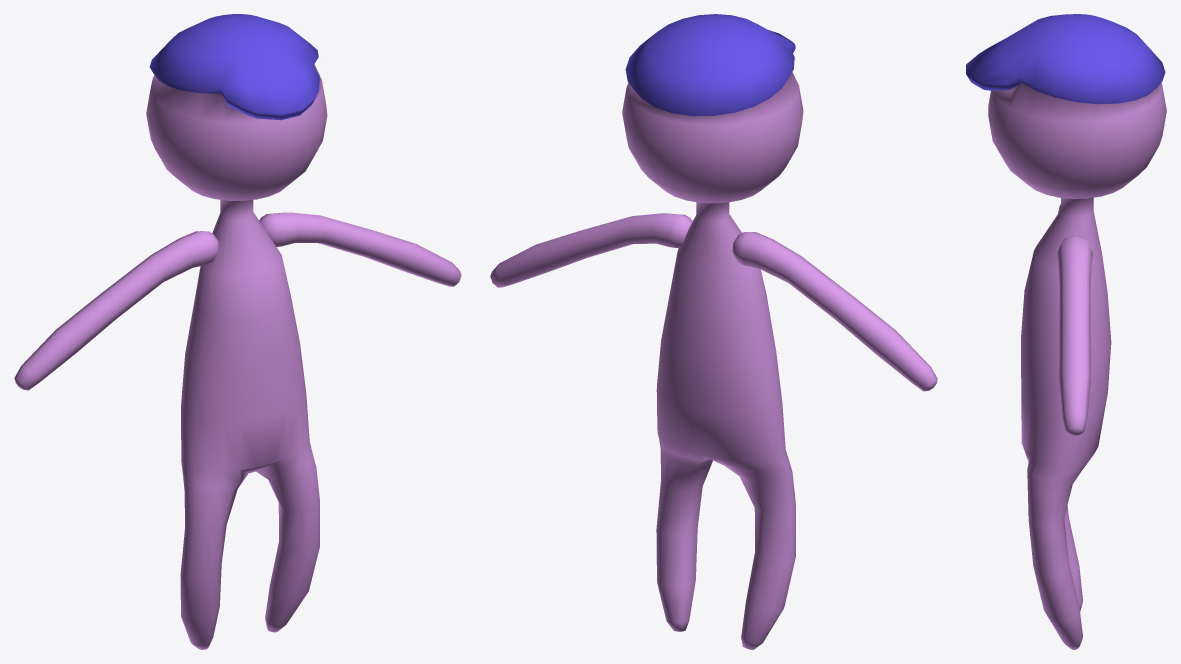
File: uomo.fbx
3 renders of one model, left to right at view 1: azimuth 30°, elevation 25°; view 2: azimuth 150°, elevation 25°; view 3: azimuth 270°, elevation 25°, orthographic.
Visible parts, largest first — view 1: Sphere; view 2: Sphere; view 3: Sphere.
Part boxes in pixels (bbox=[...]): Sphere: bbox=[14, 14, 461, 649]; Sphere: bbox=[490, 14, 937, 649]; Sphere: bbox=[966, 14, 1166, 649].
Bounding box in the file's own units: 393 × 520 × 156.
